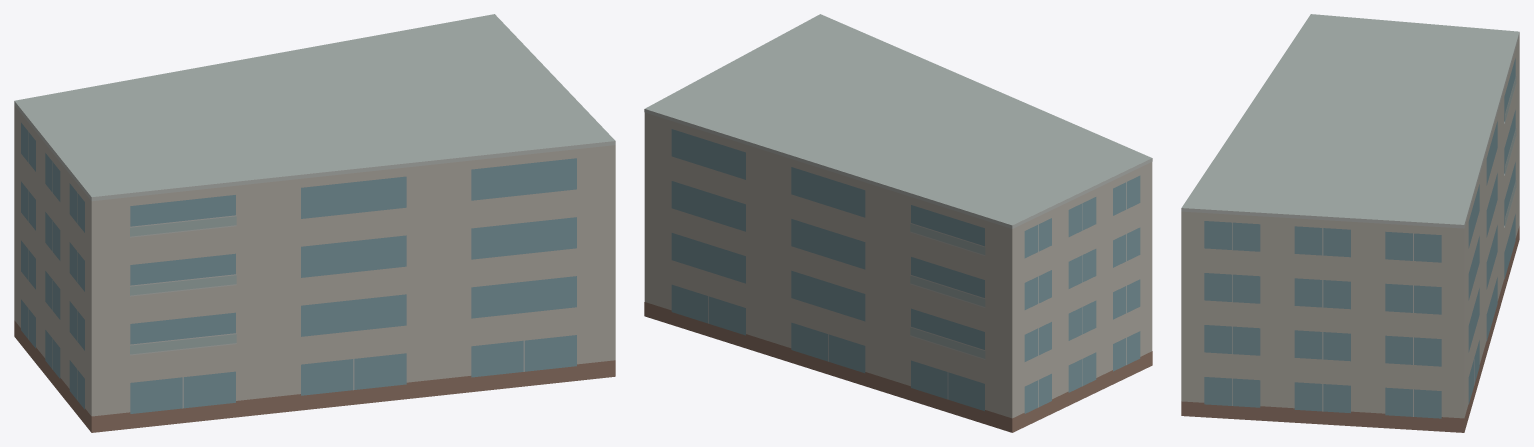
Rendered from survey-upis-32903679.glb.
3 renders of one model, left to right at view 1: azimuth 30°, elevation 25°; view 2: azimuth 150°, elevation 25°; view 3: azimuth 270°, elevation 25°, orthographic. The views are drawn at different scales.
Visible parts, largest first — view 1: survey-upis-32903679.tmp; view 2: survey-upis-32903679.tmp; view 3: survey-upis-32903679.tmp.
Part boxes in pixels (x1=…): survey-upis-32903679.tmp: x1=14, y1=14, x2=615, y2=432; survey-upis-32903679.tmp: x1=644, y1=14, x2=1152, y2=432; survey-upis-32903679.tmp: x1=1181, y1=14, x2=1519, y2=432.
Size of the model in its own units: 30.91 by 14.2 by 20.94.
